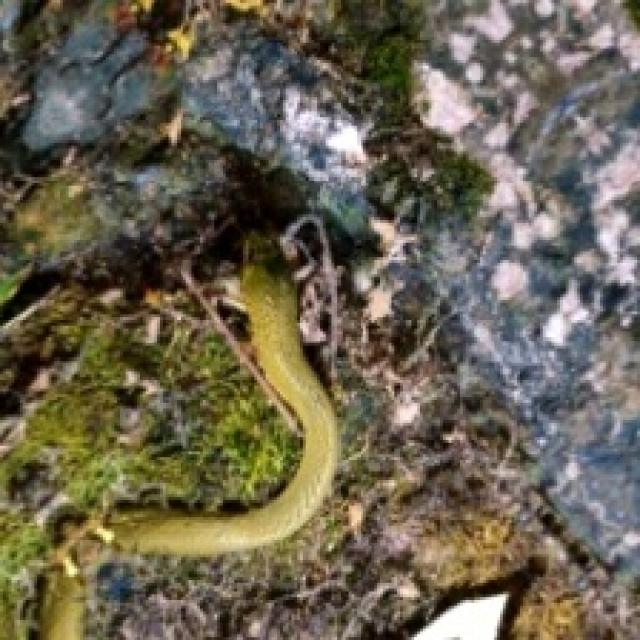gunthers philippine shrub snake: (37, 257, 337, 637), (111, 263, 337, 554)
